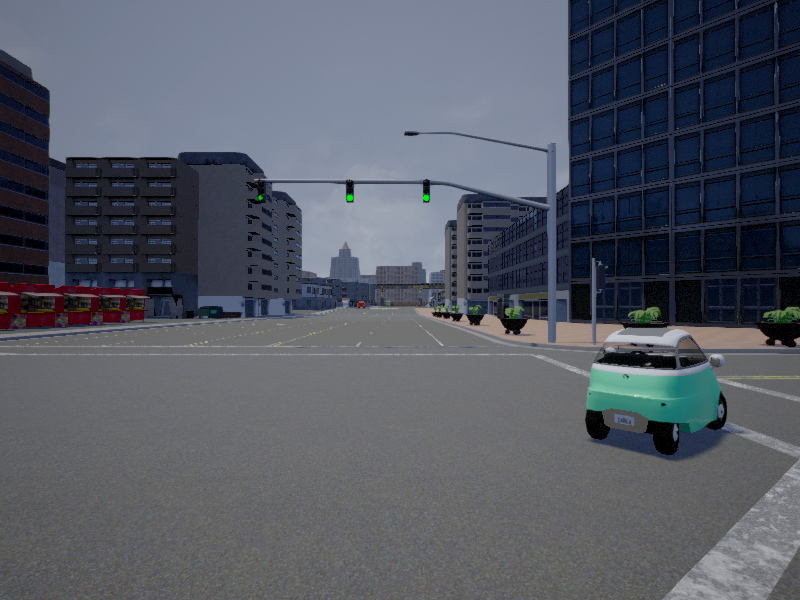Benign: (585, 328, 731, 454)
